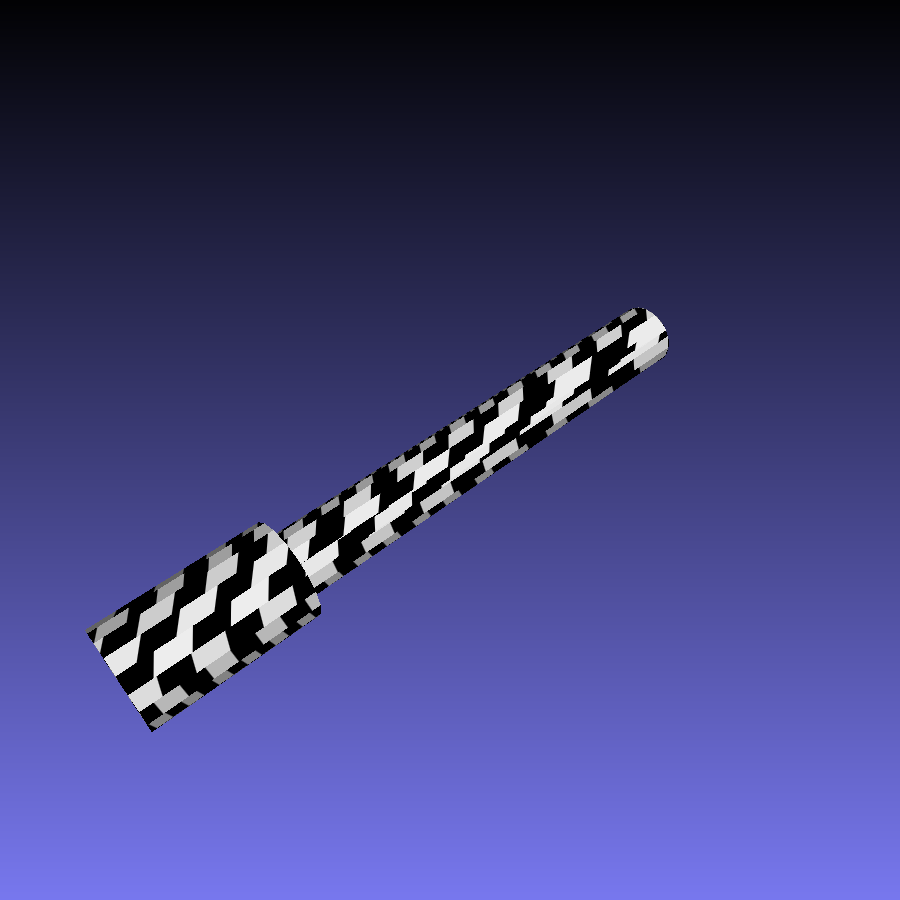cargo_g: (87, 303, 671, 731)
